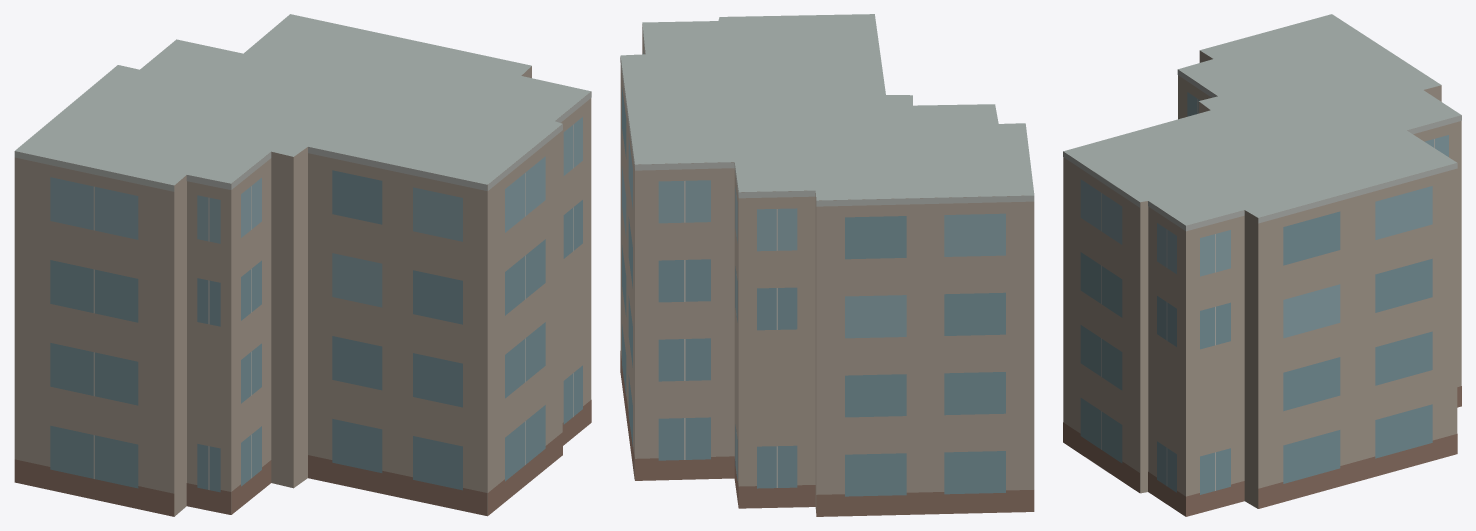
The model's file is survey-upis-32681453.glb.
3 views of the same model, side by side, from view 1: azimuth 30°, elevation 25°; view 2: azimuth 150°, elevation 25°; view 3: azimuth 270°, elevation 25° (orthographic). The views are drawn at different scales.
Parts seen in each view (by area): view 1: survey-upis-32681453.tmp; view 2: survey-upis-32681453.tmp; view 3: survey-upis-32681453.tmp.
Boxes of the visible parts, x1,y1,x2,y2 form: survey-upis-32681453.tmp: [14, 14, 591, 516]; survey-upis-32681453.tmp: [620, 14, 1034, 516]; survey-upis-32681453.tmp: [1063, 14, 1461, 516].
Bounding box in the file's own units: 19.64 × 12.59 × 15.63.
